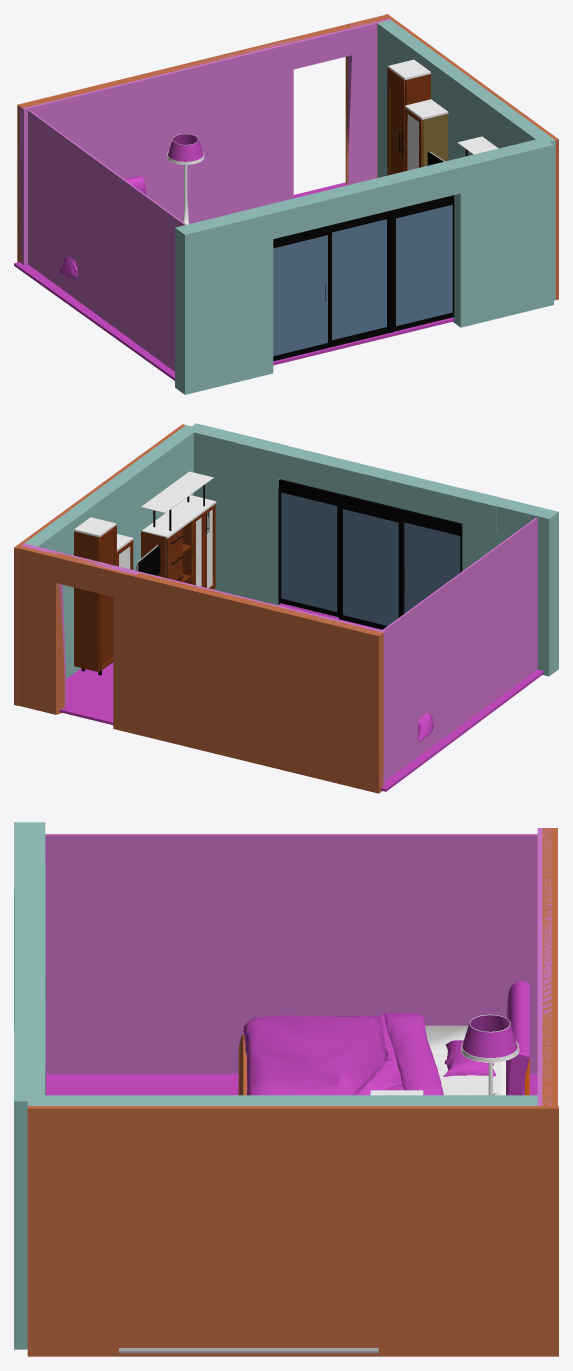
File: homeRoomBig.FBX
The picture shows the model from 3 angles, top to bottom: view 1: azimuth 30°, elevation 25°; view 2: azimuth 150°, elevation 25°; view 3: azimuth 270°, elevation 25°; orthographic projection. The views are drawn at different scales.
Visible parts, largest first — view 1: Line2097, Line045, Box340, glass001, Line036, Line046, Line468, Line2095, Line2096, Box028, Line46, Object013 (+7 smaller); view 2: Line468, Box340, glass001, Line045, Line046, Line036, Line2095, Box033, Object013, Line2097, Box30, Line2096 (+9 smaller); view 3: Line2096, Box340, cover, Line045, Line036, Line046, Line2095, Line468, Line2097, Box01, Line2089, Cylinder021 (+2 smaller).
Part boxes in pixels (bbox=[...]): Line2097: bbox=[19, 17, 390, 264]; Line045: bbox=[175, 137, 553, 394]; Box340: bbox=[28, 110, 186, 371]; glass001: bbox=[273, 200, 454, 361]; Line036: bbox=[377, 20, 555, 300]; Line046: bbox=[229, 149, 493, 238]; Line468: bbox=[17, 15, 389, 263]; Line2095: bbox=[14, 182, 454, 380]; Line2096: bbox=[384, 14, 558, 299]; Box028: bbox=[422, 113, 448, 166]; Line46: bbox=[390, 74, 401, 174]; Object013: bbox=[273, 195, 454, 243]; Line468: bbox=[17, 545, 383, 793]; Box340: bbox=[382, 517, 537, 780]; glass001: bbox=[278, 489, 462, 629]; Line045: bbox=[186, 423, 558, 676]; Line046: bbox=[235, 442, 496, 531]; Line036: bbox=[24, 425, 193, 678]; Line2095: bbox=[59, 603, 544, 791]; Box033: bbox=[74, 531, 99, 671]; Object013: bbox=[278, 479, 462, 533]; Line2097: bbox=[21, 543, 385, 791]; Box30: bbox=[142, 495, 216, 538]; Line2096: bbox=[14, 424, 185, 705]; Line2096: bbox=[27, 1106, 558, 1356]; Box340: bbox=[45, 834, 537, 1073]; cover: bbox=[243, 1012, 443, 1095]; Line045: bbox=[14, 822, 45, 1349]; Line036: bbox=[27, 1095, 537, 1105]; Line046: bbox=[14, 863, 45, 1094]; Line2095: bbox=[46, 1074, 537, 1095]; Line468: bbox=[542, 828, 557, 1105]; Line2097: bbox=[537, 828, 551, 1105]; Box01: bbox=[425, 1025, 505, 1095]; Line2089: bbox=[506, 981, 529, 1095]; Cylinder021: bbox=[461, 1015, 517, 1059].
Size of the model in its own units: 157 by 62.66 by 125.
